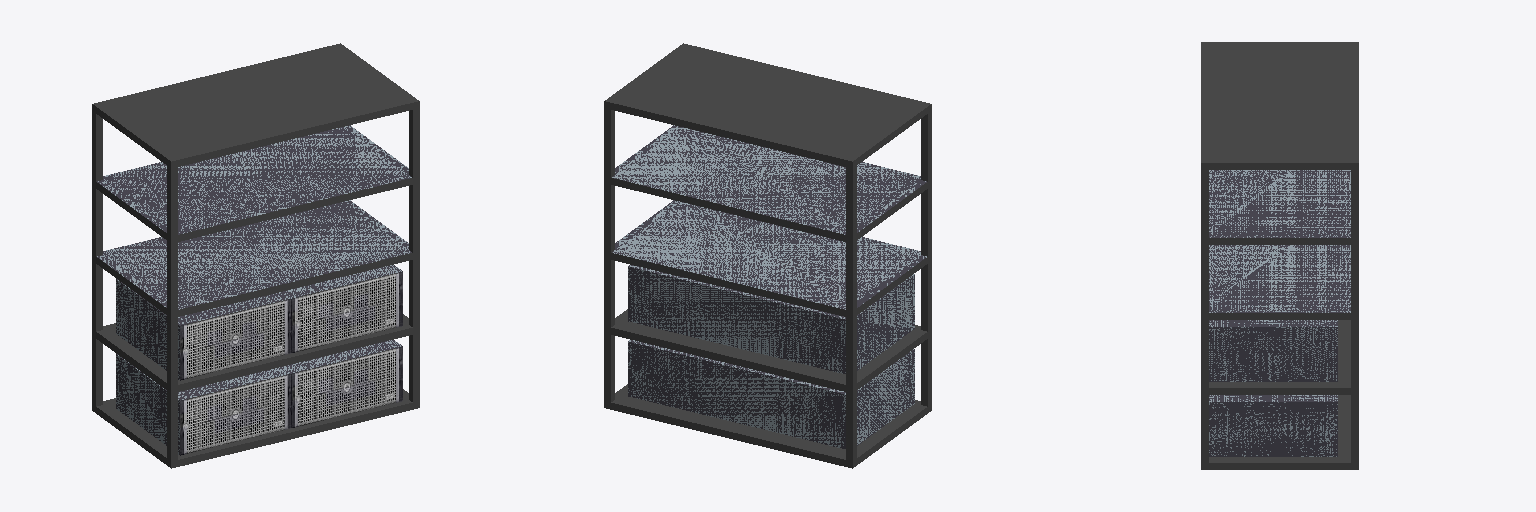
The picture shows the model from 3 angles: view 1: azimuth 30°, elevation 25°; view 2: azimuth 150°, elevation 25°; view 3: azimuth 270°, elevation 25°; orthographic projection.
Parts seen in each view (by area): view 1: Mesh1 Model, Mesh2 Model, Mesh3 Model, Mesh4 Model, Mesh5 Model; view 2: Mesh1 Model; view 3: Mesh1 Model.
Part boxes in pixels (bbox=[...]): Mesh1 Model: bbox=[92, 43, 419, 468]; Mesh2 Model: bbox=[180, 299, 291, 380]; Mesh3 Model: bbox=[180, 374, 291, 455]; Mesh4 Model: bbox=[292, 346, 402, 427]; Mesh5 Model: bbox=[292, 271, 402, 352]; Mesh1 Model: bbox=[604, 43, 931, 468]; Mesh1 Model: bbox=[1201, 42, 1358, 469].
Bounding box in the file's own units: 8.3 × 9.81 × 4.57.
Materials: 4 (1 with a texture image).